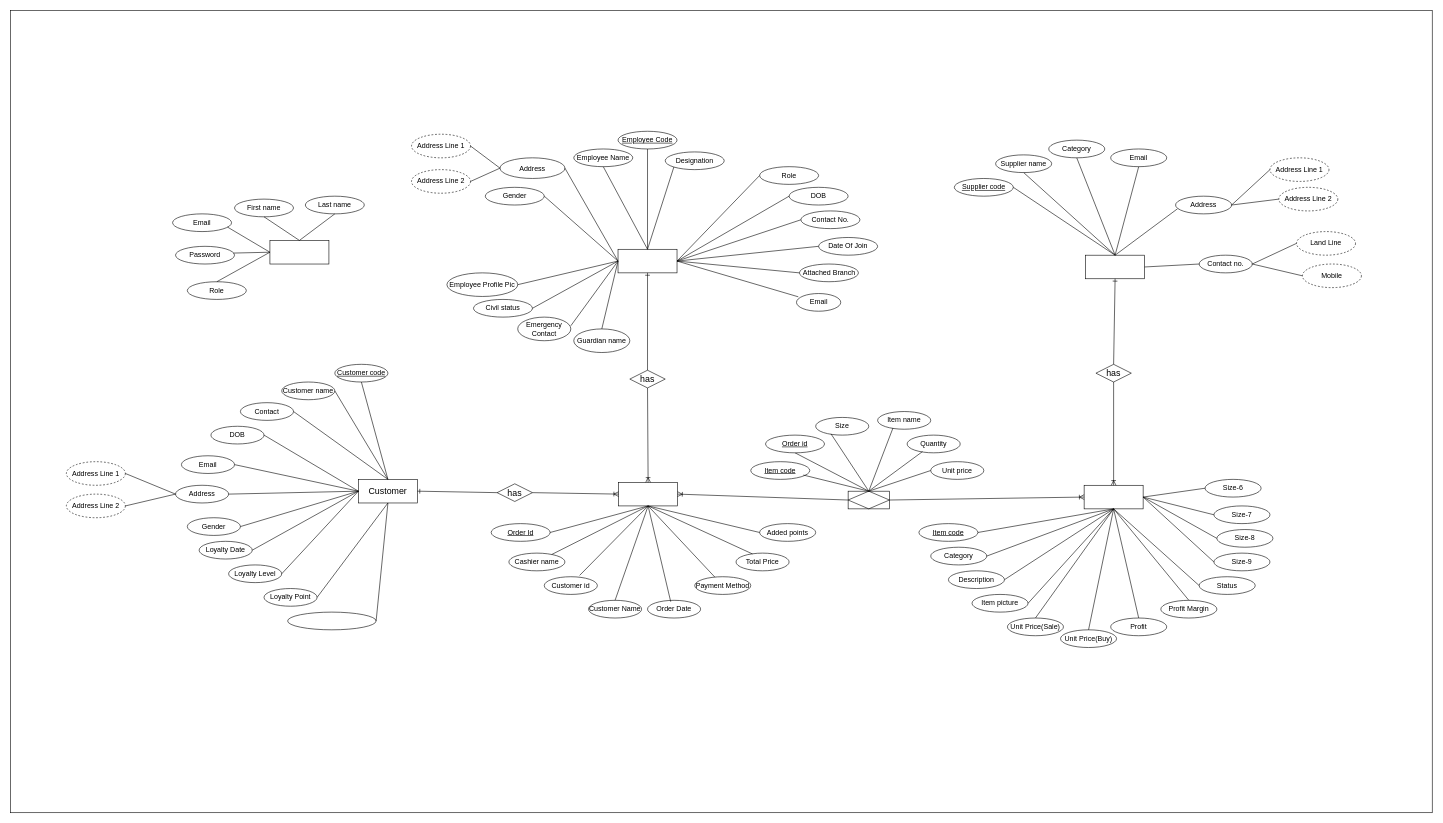
The diagram is 1443 pixels wide and 823 high, and some of its shapes have lost their labels. The shapes that lost their labels are listed below. From the top down, each one's centre as x and y in pixels, then its label:
At (x=299, y=252): "User".
At (x=647, y=261): "Employee".
At (x=1115, y=267): "Supplier".
At (x=648, y=494): "Order".
At (x=868, y=500): "Order Details".
At (x=1113, y=497): "Inventory".
At (x=331, y=621): "Recent Purchase Date".
